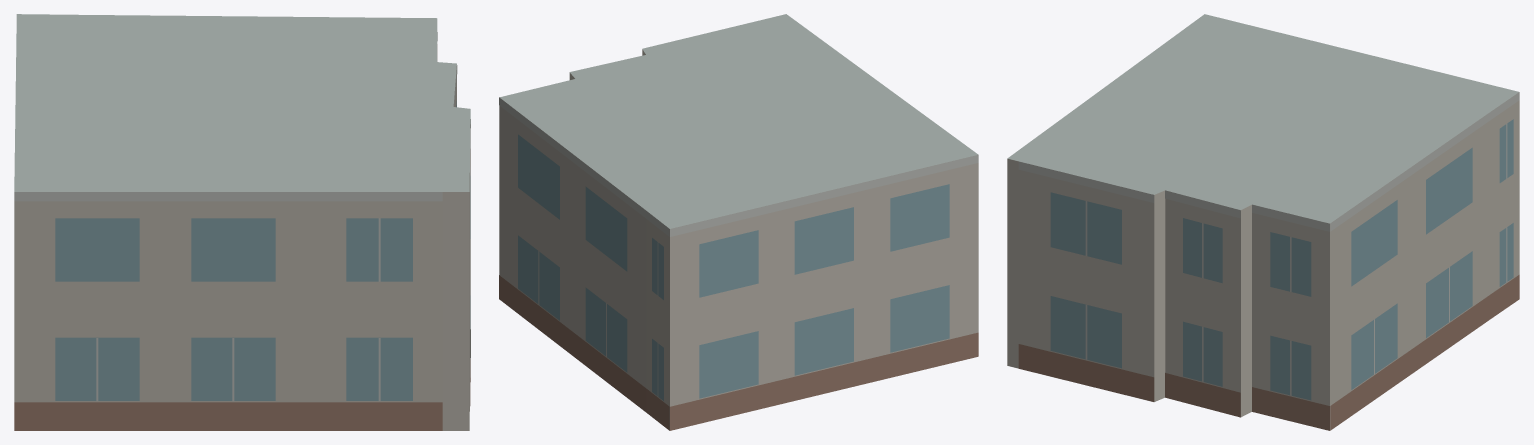
File: survey-upis-32712685.glb
The picture shows the model from 3 angles, left to right: view 1: azimuth 30°, elevation 25°; view 2: azimuth 150°, elevation 25°; view 3: azimuth 270°, elevation 25°; orthographic projection. The views are drawn at different scales.
Parts seen in each view (by area): view 1: survey-upis-32712685.tmp; view 2: survey-upis-32712685.tmp; view 3: survey-upis-32712685.tmp.
Part boxes in pixels (x1,y1,x2,y2): survey-upis-32712685.tmp: (14,14,470,430); survey-upis-32712685.tmp: (499,14,978,430); survey-upis-32712685.tmp: (1007,14,1519,430).
Size of the model in its own units: 13.24 by 6.1 by 13.67.
